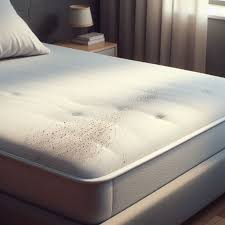bed-matress: (1, 39, 223, 224)
